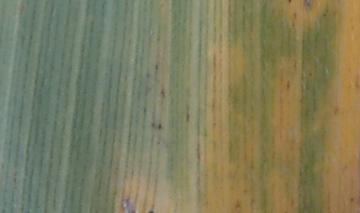tarspot: (301, 1, 315, 13), (331, 106, 341, 117), (158, 86, 167, 98), (284, 77, 293, 89), (183, 111, 191, 123), (233, 201, 243, 210), (153, 61, 161, 72), (291, 9, 298, 20), (349, 195, 357, 203), (156, 121, 163, 130), (306, 70, 313, 79), (145, 208, 157, 213), (320, 12, 327, 18), (286, 1, 292, 5)
